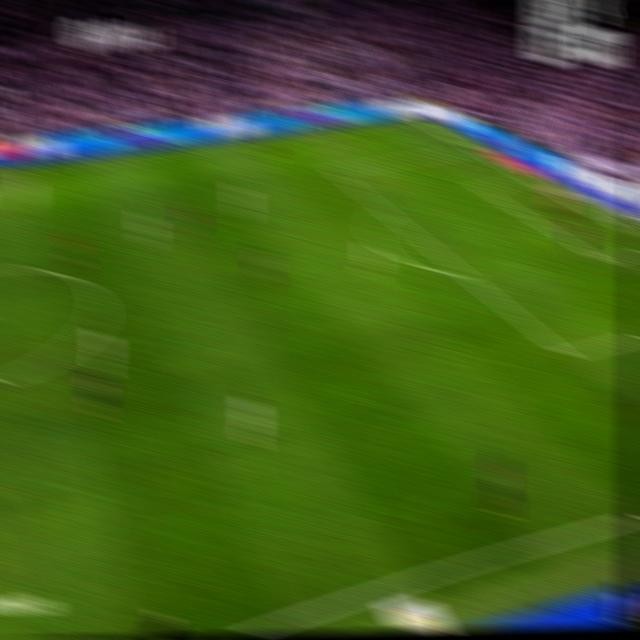bigarea_bottom_inner: (555, 340, 577, 367)
bigarea_top_inner: (327, 163, 344, 178)
bigarea_top_outter: (460, 139, 480, 155)
bottom_arc_area_intersection: (452, 263, 474, 282)
corner: (405, 112, 424, 125)
smallarea_bottom_inner: (592, 249, 612, 269)
smallarea_top_inner: (474, 182, 491, 194)
top_arc_area_intersection: (376, 202, 396, 219)
